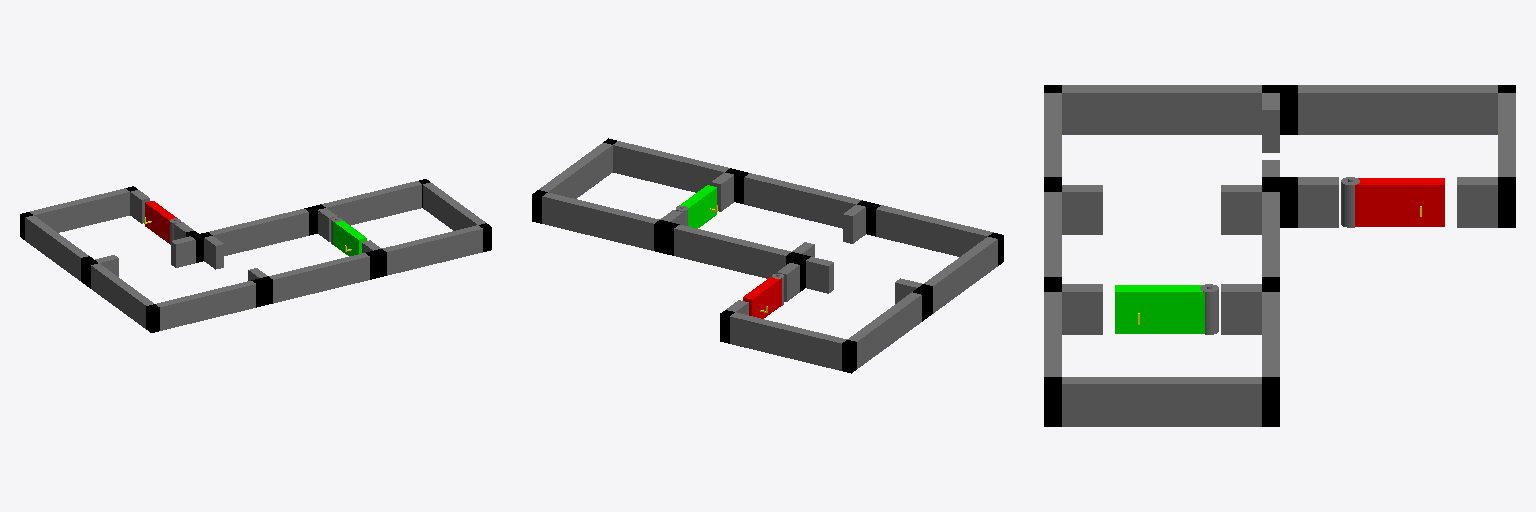
--- Render facts (derived) ---
Views: 3 orthographic renders of the robot side by side, from view 1: azimuth 30°, elevation 25°; view 2: azimuth 150°, elevation 25°; view 3: azimuth 270°, elevation 25°.
Robot: rooms3 — 48 links, 47 joints (2 revolute, 45 fixed); root link base_link; default pose: every joint at zero.
Visible links, largest first — view 1: link_fixed_20_wall_(-1.0, -0.4625), link_fixed_5_wall_(0.0, -0.4625), link_fixed_29_wall_(-2.0, -0.4625), link_fixed_18_wall_(-1.0, 0.4625), link_fixed_43_wall_(-2.0, 1.4625), link_fixed_3_wall_(0.0, 0.4625), link_fixed_46_wall_(-2.4625, 1.0), link_fixed_31_wall_(-2.4625, 0.0), link_fixed_1_wall_(0.4625, 0.0), link_fixed_11_door_panel, link_fixed_37_door_panel, link_fixed_27_wall_(-1.6625, 0.4625) (+1 smaller); view 2: link_fixed_43_wall_(-2.0, 1.4625), link_fixed_3_wall_(0.0, 0.4625), link_fixed_18_wall_(-1.0, 0.4625), link_fixed_20_wall_(-1.0, -0.4625), link_fixed_29_wall_(-2.0, -0.4625), link_fixed_5_wall_(0.0, -0.4625), link_fixed_46_wall_(-2.4625, 1.0), link_fixed_31_wall_(-2.4625, 0.0), link_fixed_1_wall_(0.4625, 0.0), link_fixed_37_door_panel, link_fixed_11_door_panel, link_fixed_27_wall_(-1.6625, 0.4625) (+3 smaller); view 3: link_fixed_1_wall_(0.4625, 0.0), link_fixed_31_wall_(-2.4625, 0.0), link_fixed_46_wall_(-2.4625, 1.0), link_fixed_37_door_panel, link_fixed_11_door_panel, link_fixed_33_wall_(-1.5375, 0.6625), link_fixed_34_wall_(-1.5375, 1.3375), link_fixed_7_wall_(-0.4625, -0.3375), link_fixed_8_wall_(-0.4625, 0.3375), link_fixed_22_wall_(-1.4625, -0.3375), link_fixed_23_wall_(-1.4625, 0.3375), link_fixed_18_wall_(-1.0, 0.4625) (+13 smaller).
Link boxes in pixels (x1,y1,x2,y2): link_fixed_20_wall_(-1.0, -0.4625): [269, 253, 369, 303]; link_fixed_5_wall_(0.0, -0.4625): [382, 225, 482, 275]; link_fixed_29_wall_(-2.0, -0.4625): [156, 281, 255, 330]; link_fixed_18_wall_(-1.0, 0.4625): [209, 209, 308, 255]; link_fixed_43_wall_(-2.0, 1.4625): [30, 188, 129, 232]; link_fixed_3_wall_(0.0, 0.4625): [321, 181, 421, 225]; link_fixed_46_wall_(-2.4625, 1.0): [25, 215, 88, 280]; link_fixed_31_wall_(-2.4625, 0.0): [91, 263, 153, 328]; link_fixed_1_wall_(0.4625, 0.0): [423, 182, 485, 230]; link_fixed_11_door_panel: [333, 220, 366, 255]; link_fixed_37_door_panel: [145, 201, 177, 243]; link_fixed_27_wall_(-1.6625, 0.4625): [171, 236, 195, 267]; link_fixed_43_wall_(-2.0, 1.4625): [730, 312, 846, 370]; link_fixed_3_wall_(0.0, 0.4625): [542, 192, 659, 250]; link_fixed_18_wall_(-1.0, 0.4625): [674, 225, 790, 278]; link_fixed_20_wall_(-1.0, -0.4625): [744, 173, 861, 228]; link_fixed_29_wall_(-2.0, -0.4625): [876, 205, 993, 256]; link_fixed_5_wall_(0.0, -0.4625): [613, 141, 729, 192]; link_fixed_46_wall_(-2.4625, 1.0): [847, 292, 921, 368]; link_fixed_31_wall_(-2.4625, 0.0): [924, 237, 997, 313]; link_fixed_1_wall_(0.4625, 0.0): [539, 143, 612, 198]; link_fixed_37_door_panel: [743, 276, 781, 318]; link_fixed_11_door_panel: [679, 185, 716, 228]; link_fixed_27_wall_(-1.6625, 0.4625): [806, 257, 833, 293]; link_fixed_1_wall_(0.4625, 0.0): [1062, 377, 1261, 426]; link_fixed_31_wall_(-2.4625, 0.0): [1062, 85, 1261, 134]; link_fixed_46_wall_(-2.4625, 1.0): [1298, 85, 1497, 134]; link_fixed_37_door_panel: [1355, 178, 1444, 226]; link_fixed_11_door_panel: [1115, 285, 1204, 333]; link_fixed_33_wall_(-1.5375, 0.6625): [1298, 177, 1338, 227]; link_fixed_34_wall_(-1.5375, 1.3375): [1457, 177, 1497, 227]; link_fixed_7_wall_(-0.4625, -0.3375): [1062, 284, 1102, 334]; link_fixed_8_wall_(-0.4625, 0.3375): [1221, 284, 1261, 334]; link_fixed_22_wall_(-1.4625, -0.3375): [1062, 185, 1102, 234]; link_fixed_23_wall_(-1.4625, 0.3375): [1221, 185, 1261, 234]; link_fixed_18_wall_(-1.0, 0.4625): [1262, 192, 1279, 276].
Size in the robot's own frame: 12 by 8 by 0.879 metres.
Geometry: primitives only (box / cylinder / sphere), no mesh files.

The robot description file, URDF, robot "rooms3":
<?xml version="1.0"?>
<!-- created with Phobos 1.0.1 "Capricious Choutengan" -->
  <robot name="rooms3">

    <link name="base_link">
    </link>

    <link name="link_0_joint_0">
      <visual name="visual_cylinder_9_link_0">
        <origin xyz="0 0 0" rpy="0 0 0"/>
        <geometry>
          <cylinder radius="0.1645" length="0.799"/>
        </geometry>
        <material name="gray"/>
      </visual>
      <collision name="collision_cylinder_9_link_0">
        <origin xyz="0 0 0" rpy="0 0 0"/>
        <geometry>
          <cylinder radius="0.1645" length="0.799"/>
        </geometry>
      </collision>
    </link>

    <link name="link_1_joint_0">
      <visual name="visual_cylinder_35_link_1">
        <origin xyz="0 0 0" rpy="0 0 0"/>
        <geometry>
          <cylinder radius="0.1645" length="0.799"/>
        </geometry>
        <material name="gray"/>
      </visual>
      <collision name="collision_cylinder_35_link_1">
        <origin xyz="0 0 0" rpy="0 0 0"/>
        <geometry>
          <cylinder radius="0.1645" length="0.799"/>
        </geometry>
      </collision>
    </link>

    <link name="link_fixed_0_pillar_(0.4625, 0.4625)">
      <visual name="visual_box_fixed_0_pillar_(0.4625, 0.4625)">
        <origin xyz="0 0 0" rpy="0 0 0"/>
        <geometry>
          <box size="0.299 0.299 0.799"/>
        </geometry>
        <material name="black"/>
      </visual>
      <collision name="collision_box_fixed_0_pillar_(0.4625, 0.4625)">
        <origin xyz="0 0 0" rpy="0 0 0"/>
        <geometry>
          <box size="0.299 0.299 0.799"/>
        </geometry>
      </collision>
    </link>

    <link name="link_fixed_10_hinge">
      <visual name="visual_cylinder_fixed_10_hinge">
        <origin xyz="0 0 0" rpy="0 0 0"/>
        <geometry>
          <cylinder radius="0.04075" length="0.879"/>
        </geometry>
        <material name="gray"/>
      </visual>
    </link>

    <link name="link_fixed_11_door_panel">
      <visual name="visual_box_fixed_11_door_panel">
        <origin xyz="0 0 0" rpy="0 0 0"/>
        <geometry>
          <box size="1.599 0.299 0.795"/>
        </geometry>
        <material name="green"/>
      </visual>
      <collision name="collision_box_fixed_11_door_panel">
        <origin xyz="0 0 0" rpy="0 0 0"/>
        <geometry>
          <box size="1.599 0.299 0.795"/>
        </geometry>
      </collision>
    </link>

    <link name="link_fixed_12_door_handle1">
      <visual name="visual_box_fixed_12_door_handle1">
        <origin xyz="0 0 0" rpy="0 0 0"/>
        <geometry>
          <box size="0.039 0.039 0.199"/>
        </geometry>
        <material name="yellow"/>
      </visual>
      <collision name="collision_box_fixed_12_door_handle1">
        <origin xyz="0 0 0" rpy="0 0 0"/>
        <geometry>
          <box size="0.039 0.039 0.199"/>
        </geometry>
      </collision>
    </link>

    <link name="link_fixed_13_door_handle1_connector">
      <visual name="visual_box_fixed_13_door_handle1_connector">
        <origin xyz="0 0 0" rpy="0 0 0"/>
        <geometry>
          <box size="0.039 0.199 0.039"/>
        </geometry>
        <material name="yellow"/>
      </visual>
      <collision name="collision_box_fixed_13_door_handle1_connector">
        <origin xyz="0 0 0" rpy="0 0 0"/>
        <geometry>
          <box size="0.039 0.199 0.039"/>
        </geometry>
      </collision>
    </link>

    <link name="link_fixed_14_door_handle2">
      <visual name="visual_box_fixed_14_door_handle2">
        <origin xyz="0 0 0" rpy="0 0 0"/>
        <geometry>
          <box size="0.039 0.039 0.199"/>
        </geometry>
        <material name="yellow"/>
      </visual>
      <collision name="collision_box_fixed_14_door_handle2">
        <origin xyz="0 0 0" rpy="0 0 0"/>
        <geometry>
          <box size="0.039 0.039 0.199"/>
        </geometry>
      </collision>
    </link>

    <link name="link_fixed_15_door_handle2_connector">
      <visual name="visual_box_fixed_15_door_handle2_connector">
        <origin xyz="0 0 0" rpy="0 0 0"/>
        <geometry>
          <box size="0.039 0.199 0.039"/>
        </geometry>
        <material name="yellow"/>
      </visual>
      <collision name="collision_box_fixed_15_door_handle2_connector">
        <origin xyz="0 0 0" rpy="0 0 0"/>
        <geometry>
          <box size="0.039 0.199 0.039"/>
        </geometry>
      </collision>
    </link>

    <link name="link_fixed_16_pillar_(-0.5375, 0.4625)">
      <visual name="visual_box_fixed_16_pillar_(-0.5375, 0.4625)">
        <origin xyz="0 0 0" rpy="0 0 0"/>
        <geometry>
          <box size="0.299 0.299 0.799"/>
        </geometry>
        <material name="black"/>
      </visual>
      <collision name="collision_box_fixed_16_pillar_(-0.5375, 0.4625)">
        <origin xyz="0 0 0" rpy="0 0 0"/>
        <geometry>
          <box size="0.299 0.299 0.799"/>
        </geometry>
      </collision>
    </link>

    <link name="link_fixed_17_pillar_(-1.4625, 0.4625)">
      <visual name="visual_box_fixed_17_pillar_(-1.4625, 0.4625)">
        <origin xyz="0 0 0" rpy="0 0 0"/>
        <geometry>
          <box size="0.299 0.299 0.799"/>
        </geometry>
        <material name="black"/>
      </visual>
      <collision name="collision_box_fixed_17_pillar_(-1.4625, 0.4625)">
        <origin xyz="0 0 0" rpy="0 0 0"/>
        <geometry>
          <box size="0.299 0.299 0.799"/>
        </geometry>
      </collision>
    </link>

    <link name="link_fixed_18_wall_(-1.0, 0.4625)">
      <visual name="visual_box_fixed_18_wall_(-1.0, 0.4625)">
        <origin xyz="0 0 0" rpy="0 0 0"/>
        <geometry>
          <box size="3.399 0.299 0.799"/>
        </geometry>
        <material name="gray"/>
      </visual>
      <collision name="collision_box_fixed_18_wall_(-1.0, 0.4625)">
        <origin xyz="0 0 0" rpy="0 0 0"/>
        <geometry>
          <box size="3.399 0.299 0.799"/>
        </geometry>
      </collision>
    </link>

    <link name="link_fixed_19_pillar_(-0.5375, -0.4625)">
      <visual name="visual_box_fixed_19_pillar_(-0.5375, -0.4625)">
        <origin xyz="0 0 0" rpy="0 0 0"/>
        <geometry>
          <box size="0.299 0.299 0.799"/>
        </geometry>
        <material name="black"/>
      </visual>
      <collision name="collision_box_fixed_19_pillar_(-0.5375, -0.4625)">
        <origin xyz="0 0 0" rpy="0 0 0"/>
        <geometry>
          <box size="0.299 0.299 0.799"/>
        </geometry>
      </collision>
    </link>

    <link name="link_fixed_1_wall_(0.4625, 0.0)">
      <visual name="visual_box_fixed_1_wall_(0.4625, 0.0)">
        <origin xyz="0 0 0" rpy="0 0 0"/>
        <geometry>
          <box size="0.299 3.399 0.799"/>
        </geometry>
        <material name="gray"/>
      </visual>
      <collision name="collision_box_fixed_1_wall_(0.4625, 0.0)">
        <origin xyz="0 0 0" rpy="0 0 0"/>
        <geometry>
          <box size="0.299 3.399 0.799"/>
        </geometry>
      </collision>
    </link>

    <link name="link_fixed_20_wall_(-1.0, -0.4625)">
      <visual name="visual_box_fixed_20_wall_(-1.0, -0.4625)">
        <origin xyz="0 0 0" rpy="0 0 0"/>
        <geometry>
          <box size="3.399 0.299 0.799"/>
        </geometry>
        <material name="gray"/>
      </visual>
      <collision name="collision_box_fixed_20_wall_(-1.0, -0.4625)">
        <origin xyz="0 0 0" rpy="0 0 0"/>
        <geometry>
          <box size="3.399 0.299 0.799"/>
        </geometry>
      </collision>
    </link>

    <link name="link_fixed_21_pillar_(-1.4625, -0.4625)">
      <visual name="visual_box_fixed_21_pillar_(-1.4625, -0.4625)">
        <origin xyz="0 0 0" rpy="0 0 0"/>
        <geometry>
          <box size="0.299 0.299 0.799"/>
        </geometry>
        <material name="black"/>
      </visual>
      <collision name="collision_box_fixed_21_pillar_(-1.4625, -0.4625)">
        <origin xyz="0 0 0" rpy="0 0 0"/>
        <geometry>
          <box size="0.299 0.299 0.799"/>
        </geometry>
      </collision>
    </link>

    <link name="link_fixed_22_wall_(-1.4625, -0.3375)">
      <visual name="visual_box_fixed_22_wall_(-1.4625, -0.3375)">
        <origin xyz="0 0 0" rpy="0 0 0"/>
        <geometry>
          <box size="0.299 0.699 0.799"/>
        </geometry>
        <material name="gray"/>
      </visual>
      <collision name="collision_box_fixed_22_wall_(-1.4625, -0.3375)">
        <origin xyz="0 0 0" rpy="0 0 0"/>
        <geometry>
          <box size="0.299 0.699 0.799"/>
        </geometry>
      </collision>
    </link>

    <link name="link_fixed_23_wall_(-1.4625, 0.3375)">
      <visual name="visual_box_fixed_23_wall_(-1.4625, 0.3375)">
        <origin xyz="0 0 0" rpy="0 0 0"/>
        <geometry>
          <box size="0.299 0.699 0.799"/>
        </geometry>
        <material name="gray"/>
      </visual>
      <collision name="collision_box_fixed_23_wall_(-1.4625, 0.3375)">
        <origin xyz="0 0 0" rpy="0 0 0"/>
        <geometry>
          <box size="0.299 0.699 0.799"/>
        </geometry>
      </collision>
    </link>

    <link name="link_fixed_24_pillar_(-1.5375, 0.4625)">
      <visual name="visual_box_fixed_24_pillar_(-1.5375, 0.4625)">
        <origin xyz="0 0 0" rpy="0 0 0"/>
        <geometry>
          <box size="0.299 0.299 0.799"/>
        </geometry>
        <material name="black"/>
      </visual>
      <collision name="collision_box_fixed_24_pillar_(-1.5375, 0.4625)">
        <origin xyz="0 0 0" rpy="0 0 0"/>
        <geometry>
          <box size="0.299 0.299 0.799"/>
        </geometry>
      </collision>
    </link>

    <link name="link_fixed_25_pillar_(-2.4625, 0.4625)">
      <visual name="visual_box_fixed_25_pillar_(-2.4625, 0.4625)">
        <origin xyz="0 0 0" rpy="0 0 0"/>
        <geometry>
          <box size="0.299 0.299 0.799"/>
        </geometry>
        <material name="black"/>
      </visual>
      <collision name="collision_box_fixed_25_pillar_(-2.4625, 0.4625)">
        <origin xyz="0 0 0" rpy="0 0 0"/>
        <geometry>
          <box size="0.299 0.299 0.799"/>
        </geometry>
      </collision>
    </link>

    <link name="link_fixed_26_wall_(-2.3375, 0.4625)">
      <visual name="visual_box_fixed_26_wall_(-2.3375, 0.4625)">
        <origin xyz="0 0 0" rpy="0 0 0"/>
        <geometry>
          <box size="0.699 0.299 0.799"/>
        </geometry>
        <material name="gray"/>
      </visual>
      <collision name="collision_box_fixed_26_wall_(-2.3375, 0.4625)">
        <origin xyz="0 0 0" rpy="0 0 0"/>
        <geometry>
          <box size="0.699 0.299 0.799"/>
        </geometry>
      </collision>
    </link>

    <link name="link_fixed_27_wall_(-1.6625, 0.4625)">
      <visual name="visual_box_fixed_27_wall_(-1.6625, 0.4625)">
        <origin xyz="0 0 0" rpy="0 0 0"/>
        <geometry>
          <box size="0.699 0.299 0.799"/>
        </geometry>
        <material name="gray"/>
      </visual>
      <collision name="collision_box_fixed_27_wall_(-1.6625, 0.4625)">
        <origin xyz="0 0 0" rpy="0 0 0"/>
        <geometry>
          <box size="0.699 0.299 0.799"/>
        </geometry>
      </collision>
    </link>

    <link name="link_fixed_28_pillar_(-1.5375, -0.4625)">
      <visual name="visual_box_fixed_28_pillar_(-1.5375, -0.4625)">
        <origin xyz="0 0 0" rpy="0 0 0"/>
        <geometry>
          <box size="0.299 0.299 0.799"/>
        </geometry>
        <material name="black"/>
      </visual>
      <collision name="collision_box_fixed_28_pillar_(-1.5375, -0.4625)">
        <origin xyz="0 0 0" rpy="0 0 0"/>
        <geometry>
          <box size="0.299 0.299 0.799"/>
        </geometry>
      </collision>
    </link>

    <link name="link_fixed_29_wall_(-2.0, -0.4625)">
      <visual name="visual_box_fixed_29_wall_(-2.0, -0.4625)">
        <origin xyz="0 0 0" rpy="0 0 0"/>
        <geometry>
          <box size="3.399 0.299 0.799"/>
        </geometry>
        <material name="gray"/>
      </visual>
      <collision name="collision_box_fixed_29_wall_(-2.0, -0.4625)">
        <origin xyz="0 0 0" rpy="0 0 0"/>
        <geometry>
          <box size="3.399 0.299 0.799"/>
        </geometry>
      </collision>
    </link>

    <link name="link_fixed_2_pillar_(-0.4625, 0.4625)">
      <visual name="visual_box_fixed_2_pillar_(-0.4625, 0.4625)">
        <origin xyz="0 0 0" rpy="0 0 0"/>
        <geometry>
          <box size="0.299 0.299 0.799"/>
        </geometry>
        <material name="black"/>
      </visual>
      <collision name="collision_box_fixed_2_pillar_(-0.4625, 0.4625)">
        <origin xyz="0 0 0" rpy="0 0 0"/>
        <geometry>
          <box size="0.299 0.299 0.799"/>
        </geometry>
      </collision>
    </link>

    <link name="link_fixed_30_pillar_(-2.4625, -0.4625)">
      <visual name="visual_box_fixed_30_pillar_(-2.4625, -0.4625)">
        <origin xyz="0 0 0" rpy="0 0 0"/>
        <geometry>
          <box size="0.299 0.299 0.799"/>
        </geometry>
        <material name="black"/>
      </visual>
      <collision name="collision_box_fixed_30_pillar_(-2.4625, -0.4625)">
        <origin xyz="0 0 0" rpy="0 0 0"/>
        <geometry>
          <box size="0.299 0.299 0.799"/>
        </geometry>
      </collision>
    </link>

    <link name="link_fixed_31_wall_(-2.4625, 0.0)">
      <visual name="visual_box_fixed_31_wall_(-2.4625, 0.0)">
        <origin xyz="0 0 0" rpy="0 0 0"/>
        <geometry>
          <box size="0.299 3.399 0.799"/>
        </geometry>
        <material name="gray"/>
      </visual>
      <collision name="collision_box_fixed_31_wall_(-2.4625, 0.0)">
        <origin xyz="0 0 0" rpy="0 0 0"/>
        <geometry>
          <box size="0.299 3.399 0.799"/>
        </geometry>
      </collision>
    </link>

    <link name="link_fixed_32_pillar_(-1.5375, 1.4625)">
      <visual name="visual_box_fixed_32_pillar_(-1.5375, 1.4625)">
        <origin xyz="0 0 0" rpy="0 0 0"/>
        <geometry>
          <box size="0.299 0.299 0.799"/>
        </geometry>
        <material name="black"/>
      </visual>
      <collision name="collision_box_fixed_32_pillar_(-1.5375, 1.4625)">
        <origin xyz="0 0 0" rpy="0 0 0"/>
        <geometry>
          <box size="0.299 0.299 0.799"/>
        </geometry>
      </collision>
    </link>

    <link name="link_fixed_33_wall_(-1.5375, 0.6625)">
      <visual name="visual_box_fixed_33_wall_(-1.5375, 0.6625)">
        <origin xyz="0 0 0" rpy="0 0 0"/>
        <geometry>
          <box size="0.299 0.699 0.799"/>
        </geometry>
        <material name="gray"/>
      </visual>
      <collision name="collision_box_fixed_33_wall_(-1.5375, 0.6625)">
        <origin xyz="0 0 0" rpy="0 0 0"/>
        <geometry>
          <box size="0.299 0.699 0.799"/>
        </geometry>
      </collision>
    </link>

    <link name="link_fixed_34_wall_(-1.5375, 1.3375)">
      <visual name="visual_box_fixed_34_wall_(-1.5375, 1.3375)">
        <origin xyz="0 0 0" rpy="0 0 0"/>
        <geometry>
          <box size="0.299 0.699 0.799"/>
        </geometry>
        <material name="gray"/>
      </visual>
      <collision name="collision_box_fixed_34_wall_(-1.5375, 1.3375)">
        <origin xyz="0 0 0" rpy="0 0 0"/>
        <geometry>
          <box size="0.299 0.699 0.799"/>
        </geometry>
      </collision>
    </link>

    <link name="link_fixed_36_hinge">
      <visual name="visual_cylinder_fixed_36_hinge">
        <origin xyz="0 0 0" rpy="0 0 0"/>
        <geometry>
          <cylinder radius="0.04075" length="0.879"/>
        </geometry>
        <material name="gray"/>
      </visual>
    </link>

    <link name="link_fixed_37_door_panel">
      <visual name="visual_box_fixed_37_door_panel">
        <origin xyz="0 0 0" rpy="0 0 0"/>
        <geometry>
          <box size="1.599 0.299 0.795"/>
        </geometry>
        <material name="red"/>
      </visual>
      <collision name="collision_box_fixed_37_door_panel">
        <origin xyz="0 0 0" rpy="0 0 0"/>
        <geometry>
          <box size="1.599 0.299 0.795"/>
        </geometry>
      </collision>
    </link>

    <link name="link_fixed_38_door_handle1">
      <visual name="visual_box_fixed_38_door_handle1">
        <origin xyz="0 0 0" rpy="0 0 0"/>
        <geometry>
          <box size="0.039 0.039 0.199"/>
        </geometry>
        <material name="yellow"/>
      </visual>
      <collision name="collision_box_fixed_38_door_handle1">
        <origin xyz="0 0 0" rpy="0 0 0"/>
        <geometry>
          <box size="0.039 0.039 0.199"/>
        </geometry>
      </collision>
    </link>

    <link name="link_fixed_39_door_handle1_connector">
      <visual name="visual_box_fixed_39_door_handle1_connector">
        <origin xyz="0 0 0" rpy="0 0 0"/>
        <geometry>
          <box size="0.039 0.199 0.039"/>
        </geometry>
        <material name="yellow"/>
      </visual>
      <collision name="collision_box_fixed_39_door_handle1_connector">
        <origin xyz="0 0 0" rpy="0 0 0"/>
        <geometry>
          <box size="0.039 0.199 0.039"/>
        </geometry>
      </collision>
    </link>

    <link name="link_fixed_3_wall_(0.0, 0.4625)">
      <visual name="visual_box_fixed_3_wall_(0.0, 0.4625)">
        <origin xyz="0 0 0" rpy="0 0 0"/>
        <geometry>
          <box size="3.399 0.299 0.799"/>
        </geometry>
        <material name="gray"/>
      </visual>
      <collision name="collision_box_fixed_3_wall_(0.0, 0.4625)">
        <origin xyz="0 0 0" rpy="0 0 0"/>
        <geometry>
          <box size="3.399 0.299 0.799"/>
        </geometry>
      </collision>
    </link>

    <link name="link_fixed_40_door_handle2">
      <visual name="visual_box_fixed_40_door_handle2">
        <origin xyz="0 0 0" rpy="0 0 0"/>
        <geometry>
          <box size="0.039 0.039 0.199"/>
        </geometry>
        <material name="yellow"/>
      </visual>
      <collision name="collision_box_fixed_40_door_handle2">
        <origin xyz="0 0 0" rpy="0 0 0"/>
        <geometry>
          <box size="0.039 0.039 0.199"/>
        </geometry>
      </collision>
    </link>

    <link name="link_fixed_41_door_handle2_connector">
      <visual name="visual_box_fixed_41_door_handle2_connector">
        <origin xyz="0 0 0" rpy="0 0 0"/>
        <geometry>
          <box size="0.039 0.199 0.039"/>
        </geometry>
        <material name="yellow"/>
      </visual>
      <collision name="collision_box_fixed_41_door_handle2_connector">
        <origin xyz="0 0 0" rpy="0 0 0"/>
        <geometry>
          <box size="0.039 0.199 0.039"/>
        </geometry>
      </collision>
    </link>

    <link name="link_fixed_42_pillar_(-2.4625, 1.4625)">
      <visual name="visual_box_fixed_42_pillar_(-2.4625, 1.4625)">
        <origin xyz="0 0 0" rpy="0 0 0"/>
        <geometry>
          <box size="0.299 0.299 0.799"/>
        </geometry>
        <material name="black"/>
      </visual>
      <collision name="collision_box_fixed_42_pillar_(-2.4625, 1.4625)">
        <origin xyz="0 0 0" rpy="0 0 0"/>
        <geometry>
          <box size="0.299 0.299 0.799"/>
        </geometry>
      </collision>
    </link>

    <link name="link_fixed_43_wall_(-2.0, 1.4625)">
      <visual name="visual_box_fixed_43_wall_(-2.0, 1.4625)">
        <origin xyz="0 0 0" rpy="0 0 0"/>
        <geometry>
          <box size="3.399 0.299 0.799"/>
        </geometry>
        <material name="gray"/>
      </visual>
      <collision name="collision_box_fixed_43_wall_(-2.0, 1.4625)">
        <origin xyz="0 0 0" rpy="0 0 0"/>
        <geometry>
          <box size="3.399 0.299 0.799"/>
        </geometry>
      </collision>
    </link>

    <link name="link_fixed_44_pillar_(-1.5375, 0.5375)">
      <visual name="visual_box_fixed_44_pillar_(-1.5375, 0.5375)">
        <origin xyz="0 0 0" rpy="0 0 0"/>
        <geometry>
          <box size="0.299 0.299 0.799"/>
        </geometry>
        <material name="black"/>
      </visual>
      <collision name="collision_box_fixed_44_pillar_(-1.5375, 0.5375)">
        <origin xyz="0 0 0" rpy="0 0 0"/>
        <geometry>
          <box size="0.299 0.299 0.799"/>
        </geometry>
      </collision>
    </link>

    <link name="link_fixed_45_pillar_(-2.4625, 0.5375)">
      <visual name="visual_box_fixed_45_pillar_(-2.4625, 0.5375)">
        <origin xyz="0 0 0" rpy="0 0 0"/>
        <geometry>
          <box size="0.299 0.299 0.799"/>
        </geometry>
        <material name="black"/>
      </visual>
      <collision name="collision_box_fixed_45_pillar_(-2.4625, 0.5375)">
        <origin xyz="0 0 0" rpy="0 0 0"/>
        <geometry>
          <box size="0.299 0.299 0.799"/>
        </geometry>
      </collision>
    </link>

    <link name="link_fixed_46_wall_(-2.4625, 1.0)">
      <visual name="visual_box_fixed_46_wall_(-2.4625, 1.0)">
        <origin xyz="0 0 0" rpy="0 0 0"/>
        <geometry>
          <box size="0.299 3.399 0.799"/>
        </geometry>
        <material name="gray"/>
      </visual>
      <collision name="collision_box_fixed_46_wall_(-2.4625, 1.0)">
        <origin xyz="0 0 0" rpy="0 0 0"/>
        <geometry>
          <box size="0.299 3.399 0.799"/>
        </geometry>
      </collision>
    </link>

    <link name="link_fixed_4_pillar_(0.4625, -0.4625)">
      <visual name="visual_box_fixed_4_pillar_(0.4625, -0.4625)">
        <origin xyz="0 0 0" rpy="0 0 0"/>
        <geometry>
          <box size="0.299 0.299 0.799"/>
        </geometry>
        <material name="black"/>
      </visual>
      <collision name="collision_box_fixed_4_pillar_(0.4625, -0.4625)">
        <origin xyz="0 0 0" rpy="0 0 0"/>
        <geometry>
          <box size="0.299 0.299 0.799"/>
        </geometry>
      </collision>
    </link>

    <link name="link_fixed_5_wall_(0.0, -0.4625)">
      <visual name="visual_box_fixed_5_wall_(0.0, -0.4625)">
        <origin xyz="0 0 0" rpy="0 0 0"/>
        <geometry>
          <box size="3.399 0.299 0.799"/>
        </geometry>
        <material name="gray"/>
      </visual>
      <collision name="collision_box_fixed_5_wall_(0.0, -0.4625)">
        <origin xyz="0 0 0" rpy="0 0 0"/>
        <geometry>
          <box size="3.399 0.299 0.799"/>
        </geometry>
      </collision>
    </link>

    <link name="link_fixed_6_pillar_(-0.4625, -0.4625)">
      <visual name="visual_box_fixed_6_pillar_(-0.4625, -0.4625)">
        <origin xyz="0 0 0" rpy="0 0 0"/>
        <geometry>
          <box size="0.299 0.299 0.799"/>
        </geometry>
        <material name="black"/>
      </visual>
      <collision name="collision_box_fixed_6_pillar_(-0.4625, -0.4625)">
        <origin xyz="0 0 0" rpy="0 0 0"/>
        <geometry>
          <box size="0.299 0.299 0.799"/>
        </geometry>
      </collision>
    </link>

    <link name="link_fixed_7_wall_(-0.4625, -0.3375)">
      <visual name="visual_box_fixed_7_wall_(-0.4625, -0.3375)">
        <origin xyz="0 0 0" rpy="0 0 0"/>
        <geometry>
          <box size="0.299 0.699 0.799"/>
        </geometry>
        <material name="gray"/>
      </visual>
      <collision name="collision_box_fixed_7_wall_(-0.4625, -0.3375)">
        <origin xyz="0 0 0" rpy="0 0 0"/>
        <geometry>
          <box size="0.299 0.699 0.799"/>
        </geometry>
      </collision>
    </link>

    <link name="link_fixed_8_wall_(-0.4625, 0.3375)">
      <visual name="visual_box_fixed_8_wall_(-0.4625, 0.3375)">
        <origin xyz="0 0 0" rpy="0 0 0"/>
        <geometry>
          <box size="0.299 0.699 0.799"/>
        </geometry>
        <material name="gray"/>
      </visual>
      <collision name="collision_box_fixed_8_wall_(-0.4625, 0.3375)">
        <origin xyz="0 0 0" rpy="0 0 0"/>
        <geometry>
          <box size="0.299 0.699 0.799"/>
        </geometry>
      </collision>
    </link>

    <joint name="link_0_joint_0" type="revolute">
      <origin xyz="-1.85 0.8 0.4" rpy="0 0 -1.5708"/>
      <parent link="base_link"/>
      <child link="link_0_joint_0"/>
      <axis xyz="0 0 1.0"/>
      <limit lower="0" upper="1.5708" effort="0" velocity="0"/>
    </joint>

    <joint name="link_1_joint_0" type="revolute">
      <origin xyz="-6.15 3.2 0.4" rpy="0 0 1.5708"/>
      <parent link="base_link"/>
      <child link="link_1_joint_0"/>
      <axis xyz="0 0 1.0"/>
      <limit lower="0" upper="1.5708" effort="0" velocity="0"/>
    </joint>

    <joint name="link_fixed_0_pillar_(0.4625, 0.4625)" type="fixed">
      <origin xyz="1.85 1.85 0.4" rpy="0 0 0"/>
      <parent link="base_link"/>
      <child link="link_fixed_0_pillar_(0.4625, 0.4625)"/>
    </joint>

    <joint name="link_fixed_10_hinge" type="fixed">
      <origin xyz="0 0 0" rpy="0 0 0"/>
      <parent link="link_0_joint_0"/>
      <child link="link_fixed_10_hinge"/>
    </joint>

    <joint name="link_fixed_11_door_panel" type="fixed">
      <origin xyz="0.8 0 0" rpy="0 0 0"/>
      <parent link="link_0_joint_0"/>
      <child link="link_fixed_11_door_panel"/>
    </joint>

    <joint name="link_fixed_12_door_handle1" type="fixed">
      <origin xyz="1.2 0.37 0" rpy="0 0 0"/>
      <parent link="link_0_joint_0"/>
      <child link="link_fixed_12_door_handle1"/>
    </joint>

    <joint name="link_fixed_13_door_handle1_connector" type="fixed">
      <origin xyz="1.2 0.25 -0.08" rpy="0 0 0"/>
      <parent link="link_0_joint_0"/>
      <child link="link_fixed_13_door_handle1_connector"/>
    </joint>

    <joint name="link_fixed_14_door_handle2" type="fixed">
      <origin xyz="1.2 -0.37 0" rpy="0 0 0"/>
      <parent link="link_0_joint_0"/>
      <child link="link_fixed_14_door_handle2"/>
    </joint>

    <joint name="link_fixed_15_door_handle2_connector" type="fixed">
      <origin xyz="1.2 -0.25 -0.08" rpy="0 0 0"/>
      <parent link="link_0_joint_0"/>
      <child link="link_fixed_15_door_handle2_connector"/>
    </joint>

    <joint name="link_fixed_16_pillar_(-0.5375, 0.4625)" type="fixed">
      <origin xyz="-2.15 1.85 0.4" rpy="0 0 0"/>
      <parent link="base_link"/>
      <child link="link_fixed_16_pillar_(-0.5375, 0.4625)"/>
    </joint>

    <joint name="link_fixed_17_pillar_(-1.4625, 0.4625)" type="fixed">
      <origin xyz="-5.85 1.85 0.4" rpy="0 0 0"/>
      <parent link="base_link"/>
      <child link="link_fixed_17_pillar_(-1.4625, 0.4625)"/>
    </joint>

    <joint name="link_fixed_18_wall_(-1.0, 0.4625)" type="fixed">
      <origin xyz="-4.0 1.85 0.4" rpy="0 0 0"/>
      <parent link="base_link"/>
      <child link="link_fixed_18_wall_(-1.0, 0.4625)"/>
    </joint>

    <joint name="link_fixed_19_pillar_(-0.5375, -0.4625)" type="fixed">
      <origin xyz="-2.15 -1.85 0.4" rpy="0 0 0"/>
      <parent link="base_link"/>
      <child link="link_fixed_19_pillar_(-0.5375, -0.4625)"/>
    </joint>

    <joint name="link_fixed_1_wall_(0.4625, 0.0)" type="fixed">
      <origin xyz="1.85 0 0.4" rpy="0 0 0"/>
      <parent link="base_link"/>
      <child link="link_fixed_1_wall_(0.4625, 0.0)"/>
    </joint>

    <joint name="link_fixed_20_wall_(-1.0, -0.4625)" type="fixed">
      <origin xyz="-4.0 -1.85 0.4" rpy="0 0 0"/>
      <parent link="base_link"/>
      <child link="link_fixed_20_wall_(-1.0, -0.4625)"/>
    </joint>

    <joint name="link_fixed_21_pillar_(-1.4625, -0.4625)" type="fixed">
      <origin xyz="-5.85 -1.85 0.4" rpy="0 0 0"/>
      <parent link="base_link"/>
      <child link="link_fixed_21_pillar_(-1.4625, -0.4625)"/>
    </joint>

    <joint name="link_fixed_22_wall_(-1.4625, -0.3375)" type="fixed">
      <origin xyz="-5.85 -1.35 0.4" rpy="0 0 0"/>
      <parent link="base_link"/>
      <child link="link_fixed_22_wall_(-1.4625, -0.3375)"/>
    </joint>

    <joint name="link_fixed_23_wall_(-1.4625, 0.3375)" type="fixed">
      <origin xyz="-5.85 1.35 0.4" rpy="0 0 0"/>
      <parent link="base_link"/>
      <child link="link_fixed_23_wall_(-1.4625, 0.3375)"/>
    </joint>

    <joint name="link_fixed_24_pillar_(-1.5375, 0.4625)" type="fixed">
      <origin xyz="-6.15 1.85 0.4" rpy="0 0 0"/>
      <parent link="base_link"/>
      <child link="link_fixed_24_pillar_(-1.5375, 0.4625)"/>
    </joint>

    <joint name="link_fixed_25_pillar_(-2.4625, 0.4625)" type="fixed">
      <origin xyz="-9.85 1.85 0.4" rpy="0 0 0"/>
      <parent link="base_link"/>
      <child link="link_fixed_25_pillar_(-2.4625, 0.4625)"/>
    </joint>

    <joint name="link_fixed_26_wall_(-2.3375, 0.4625)" type="fixed">
      <origin xyz="-9.35 1.85 0.4" rpy="0 0 0"/>
      <parent link="base_link"/>
      <child link="link_fixed_26_wall_(-2.3375, 0.4625)"/>
    </joint>

    <joint name="link_fixed_27_wall_(-1.6625, 0.4625)" type="fixed">
      <origin xyz="-6.65 1.85 0.4" rpy="0 0 0"/>
      <parent link="base_link"/>
      <child link="link_fixed_27_wall_(-1.6625, 0.4625)"/>
    </joint>

    <joint name="link_fixed_28_pillar_(-1.5375, -0.4625)" type="fixed">
      <origin xyz="-6.15 -1.85 0.4" rpy="0 0 0"/>
      <parent link="base_link"/>
      <child link="link_fixed_28_pillar_(-1.5375, -0.4625)"/>
    </joint>

    <joint name="link_fixed_29_wall_(-2.0, -0.4625)" type="fixed">
      <origin xyz="-8.0 -1.85 0.4" rpy="0 0 0"/>
      <parent link="base_link"/>
      <child link="link_fixed_29_wall_(-2.0, -0.4625)"/>
    </joint>

    <joint name="link_fixed_2_pillar_(-0.4625, 0.4625)" type="fixed">
      <origin xyz="-1.85 1.85 0.4" rpy="0 0 0"/>
      <parent link="base_link"/>
      <child link="link_fixed_2_pillar_(-0.4625, 0.4625)"/>
    </joint>

    <joint name="link_fixed_30_pillar_(-2.4625, -0.4625)" type="fixed">
      <origin xyz="-9.85 -1.85 0.4" rpy="0 0 0"/>
      <parent link="base_link"/>
      <child link="link_fixed_30_pillar_(-2.4625, -0.4625)"/>
    </joint>

    <joint name="link_fixed_31_wall_(-2.4625, 0.0)" type="fixed">
      <origin xyz="-9.85 0 0.4" rpy="0 0 0"/>
      <parent link="base_link"/>
      <child link="link_fixed_31_wall_(-2.4625, 0.0)"/>
    </joint>

    <joint name="link_fixed_32_pillar_(-1.5375, 1.4625)" type="fixed">
      <origin xyz="-6.15 5.85 0.4" rpy="0 0 0"/>
      <parent link="base_link"/>
      <child link="link_fixed_32_pillar_(-1.5375, 1.4625)"/>
    </joint>

    <joint name="link_fixed_33_wall_(-1.5375, 0.6625)" type="fixed">
      <origin xyz="-6.15 2.65 0.4" rpy="0 0 0"/>
      <parent link="base_link"/>
      <child link="link_fixed_33_wall_(-1.5375, 0.6625)"/>
    </joint>

    <joint name="link_fixed_34_wall_(-1.5375, 1.3375)" type="fixed">
      <origin xyz="-6.15 5.35 0.4" rpy="0 0 0"/>
      <parent link="base_link"/>
      <child link="link_fixed_34_wall_(-1.5375, 1.3375)"/>
    </joint>

    <joint name="link_fixed_36_hinge" type="fixed">
      <origin xyz="0 0 0" rpy="0 0 0"/>
      <parent link="link_1_joint_0"/>
      <child link="link_fixed_36_hinge"/>
    </joint>

    <joint name="link_fixed_37_door_panel" type="fixed">
      <origin xyz="0.8 0 0" rpy="0 0 0"/>
      <parent link="link_1_joint_0"/>
      <child link="link_fixed_37_door_panel"/>
    </joint>

    <joint name="link_fixed_38_door_handle1" type="fixed">
      <origin xyz="1.2 0.37 0" rpy="0 0 0"/>
      <parent link="link_1_joint_0"/>
      <child link="link_fixed_38_door_handle1"/>
    </joint>

    <joint name="link_fixed_39_door_handle1_connector" type="fixed">
      <origin xyz="1.2 0.25 -0.08" rpy="0 0 0"/>
      <parent link="link_1_joint_0"/>
      <child link="link_fixed_39_door_handle1_connector"/>
    </joint>

    <joint name="link_fixed_3_wall_(0.0, 0.4625)" type="fixed">
      <origin xyz="0 1.85 0.4" rpy="0 0 0"/>
      <parent link="base_link"/>
      <child link="link_fixed_3_wall_(0.0, 0.4625)"/>
    </joint>

    <joint name="link_fixed_40_door_handle2" type="fixed">
      <origin xyz="1.2 -0.37 0" rpy="0 0 0"/>
      <parent link="link_1_joint_0"/>
      <child link="link_fixed_40_door_handle2"/>
    </joint>

    <joint name="link_fixed_41_door_handle2_connector" type="fixed">
      <origin xyz="1.2 -0.25 -0.08" rpy="0 0 0"/>
      <parent link="link_1_joint_0"/>
      <child link="link_fixed_41_door_handle2_connector"/>
    </joint>

    <joint name="link_fixed_42_pillar_(-2.4625, 1.4625)" type="fixed">
      <origin xyz="-9.85 5.85 0.4" rpy="0 0 0"/>
      <parent link="base_link"/>
      <child link="link_fixed_42_pillar_(-2.4625, 1.4625)"/>
    </joint>

    <joint name="link_fixed_43_wall_(-2.0, 1.4625)" type="fixed">
      <origin xyz="-8.0 5.85 0.4" rpy="0 0 0"/>
      <parent link="base_link"/>
      <child link="link_fixed_43_wall_(-2.0, 1.4625)"/>
    </joint>

    <joint name="link_fixed_44_pillar_(-1.5375, 0.5375)" type="fixed">
      <origin xyz="-6.15 2.15 0.4" rpy="0 0 0"/>
      <parent link="base_link"/>
      <child link="link_fixed_44_pillar_(-1.5375, 0.5375)"/>
    </joint>

    <joint name="link_fixed_45_pillar_(-2.4625, 0.5375)" type="fixed">
      <origin xyz="-9.85 2.15 0.4" rpy="0 0 0"/>
      <parent link="base_link"/>
      <child link="link_fixed_45_pillar_(-2.4625, 0.5375)"/>
    </joint>

    <joint name="link_fixed_46_wall_(-2.4625, 1.0)" type="fixed">
      <origin xyz="-9.85 4.0 0.4" rpy="0 0 0"/>
      <parent link="base_link"/>
      <child link="link_fixed_46_wall_(-2.4625, 1.0)"/>
    </joint>

    <joint name="link_fixed_4_pillar_(0.4625, -0.4625)" type="fixed">
      <origin xyz="1.85 -1.85 0.4" rpy="0 0 0"/>
      <parent link="base_link"/>
      <child link="link_fixed_4_pillar_(0.4625, -0.4625)"/>
    </joint>

    <joint name="link_fixed_5_wall_(0.0, -0.4625)" type="fixed">
      <origin xyz="0 -1.85 0.4" rpy="0 0 0"/>
      <parent link="base_link"/>
      <child link="link_fixed_5_wall_(0.0, -0.4625)"/>
    </joint>

    <joint name="link_fixed_6_pillar_(-0.4625, -0.4625)" type="fixed">
      <origin xyz="-1.85 -1.85 0.4" rpy="0 0 0"/>
      <parent link="base_link"/>
      <child link="link_fixed_6_pillar_(-0.4625, -0.4625)"/>
    </joint>

    <joint name="link_fixed_7_wall_(-0.4625, -0.3375)" type="fixed">
      <origin xyz="-1.85 -1.35 0.4" rpy="0 0 0"/>
      <parent link="base_link"/>
      <child link="link_fixed_7_wall_(-0.4625, -0.3375)"/>
    </joint>

    <joint name="link_fixed_8_wall_(-0.4625, 0.3375)" type="fixed">
      <origin xyz="-1.85 1.35 0.4" rpy="0 0 0"/>
      <parent link="base_link"/>
      <child link="link_fixed_8_wall_(-0.4625, 0.3375)"/>
    </joint>

    <material name="black">
      <color rgba="0 0 0 1.0"/>
    </material>

    <material name="gray">
      <color rgba="0.5 0.5 0.5 1.0"/>
    </material>

    <material name="green">
      <color rgba="0 1.0 0 1.0"/>
    </material>

    <material name="red">
      <color rgba="1.0 0 0 1.0"/>
    </material>

    <material name="yellow">
      <color rgba="1.0 1.0 0 1.0"/>
    </material>

  </robot>
